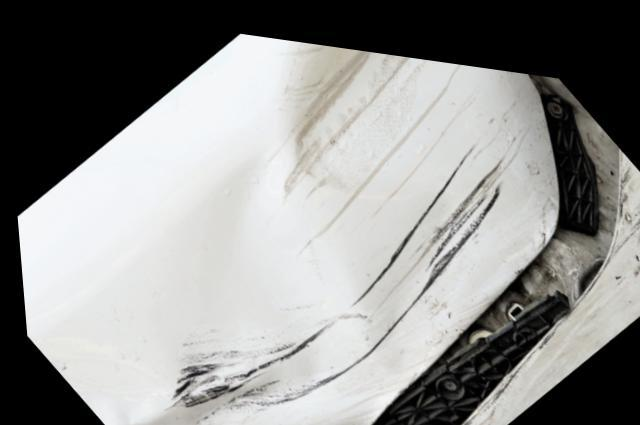dent: (21, 33, 529, 425)
scratch: (280, 105, 529, 378), (440, 128, 640, 425)
